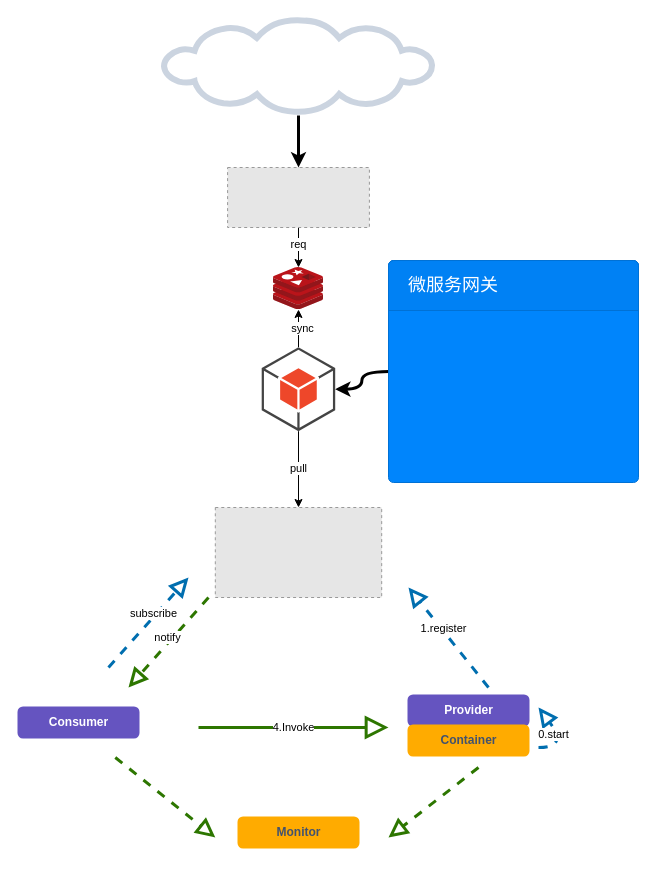
The diagram is 656 pixels wide and 870 high, and some of its shapes have lost their labels. Grey dashed boxes stand in for pictures. Each missing label, with the centre of its shape:
Internet: pixel 298 66
该服务将注册中心的服务列表转换成既定的格式，同步到redis中，openRestry会去redis中请求，并换存在本地: pixel 513 371
